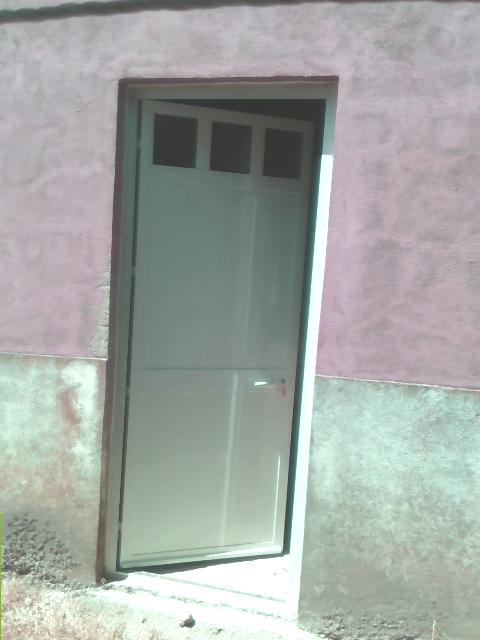semi_door: (95, 72, 340, 613)
